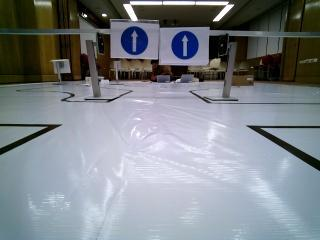straight: (161, 26, 208, 64), (113, 20, 159, 58)
